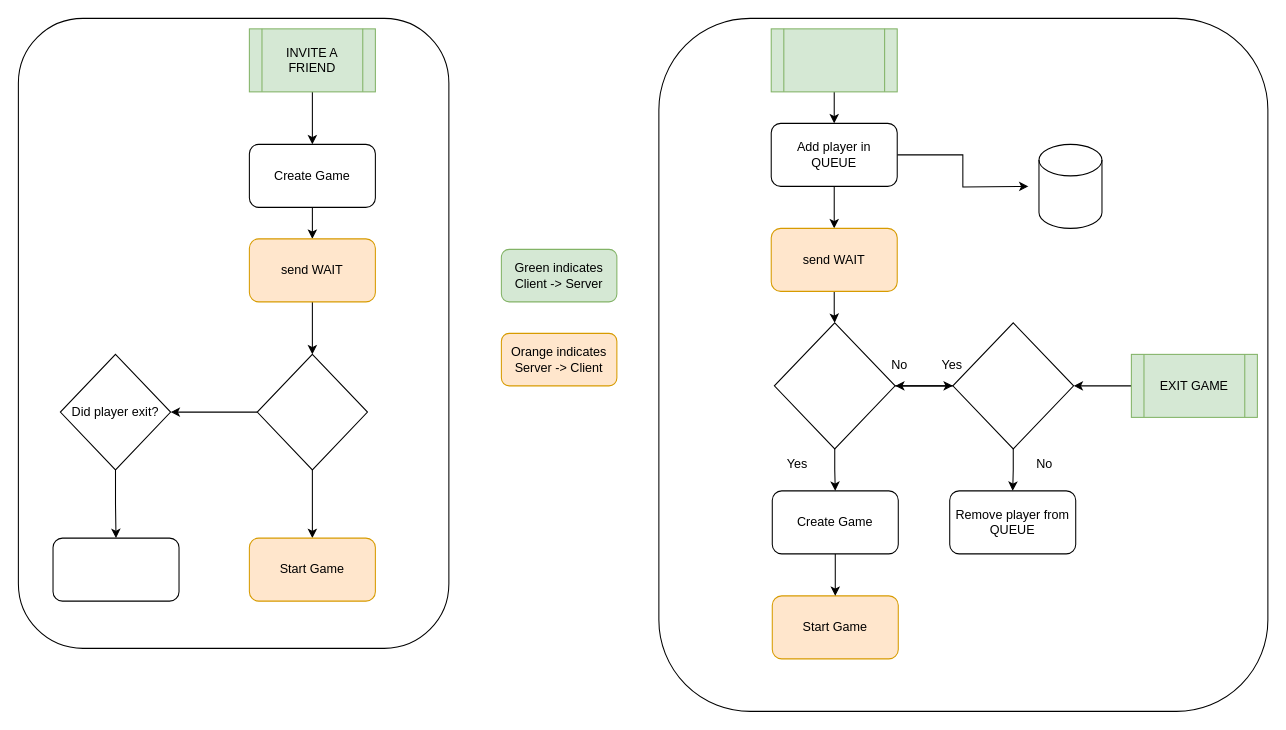
Image size: 1286x730. Some labels were removed from this diagram. Each missing label, with the box of its shape:
Destroy Game: (52, 537, 179, 601)
Did someone join?: (256, 353, 368, 470)
FIND GAME: (770, 28, 897, 92)
Is it possible to create pairs?: (773, 322, 895, 449)
Is the player still in the QUEUE?: (952, 322, 1074, 449)
Waiting QUEUE: (1038, 143, 1102, 228)
